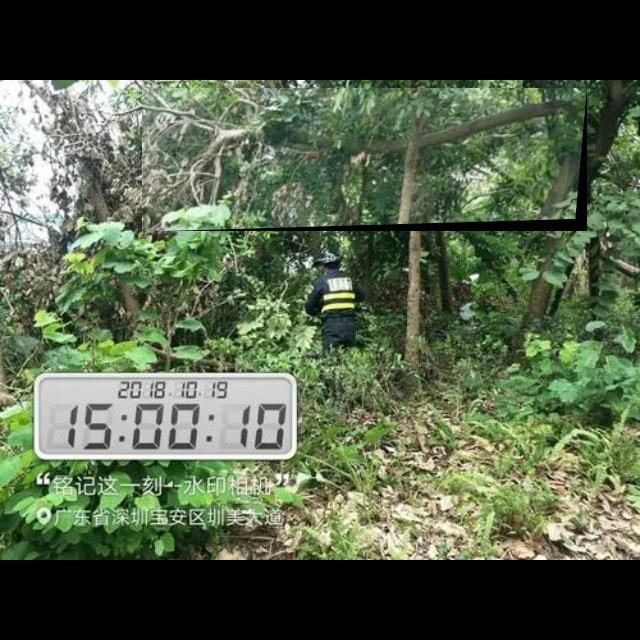fallen_tree: (142, 88, 588, 232)
